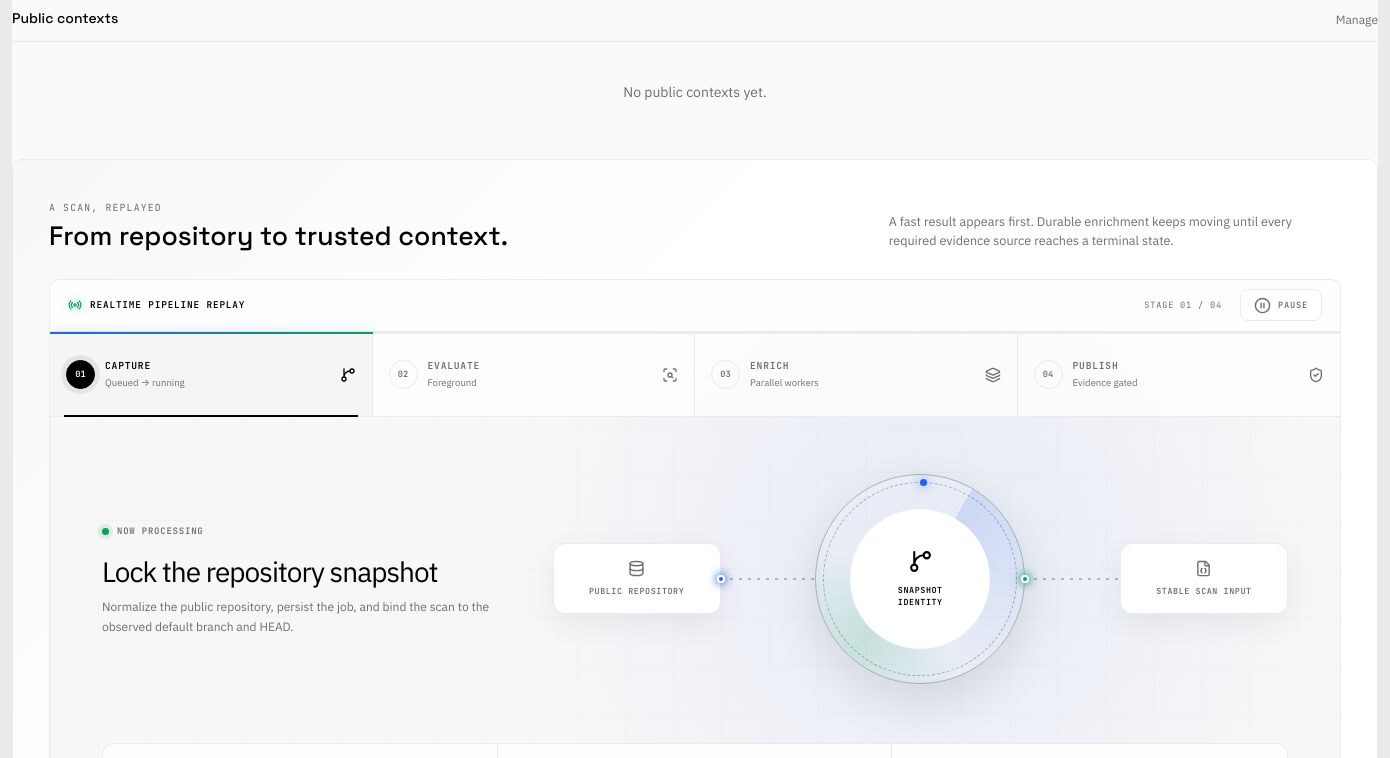
Test case: HomePage › replays how repository evidence becomes reusable context
(page scrolled)
Expected: the heading "From repository to trusted context." is shown, [49, 219, 508, 253]
Expected: the list named "Trust pipeline stages" is shown, [50, 334, 1340, 417]
Click the button "03 Enrich Parallel workers".
click(770, 365)  # box [695, 334, 1018, 416]
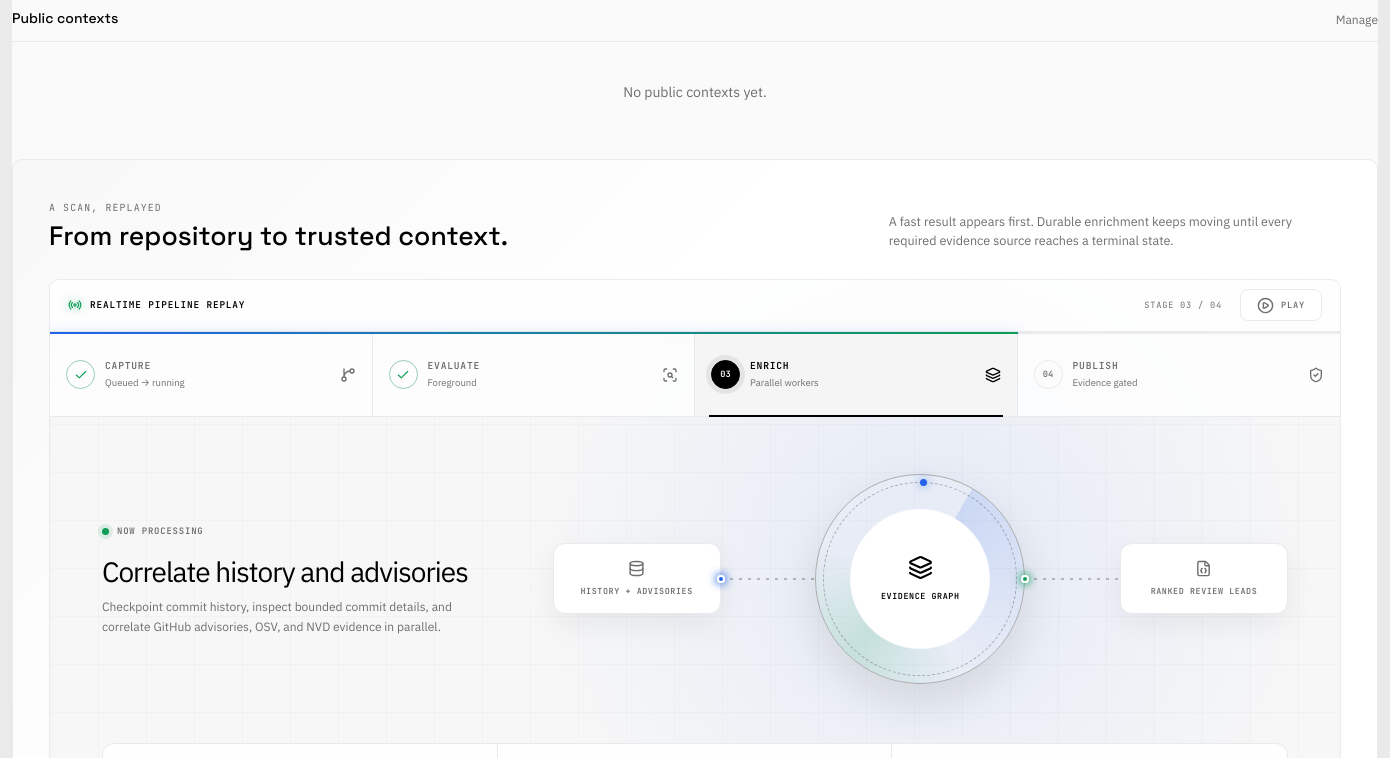
Now the heading "Correlate history and advisories" is shown, box [102, 557, 492, 587]
Now the button with aria-label "Play pipeline replay" is shown, box [1240, 289, 1322, 321]
